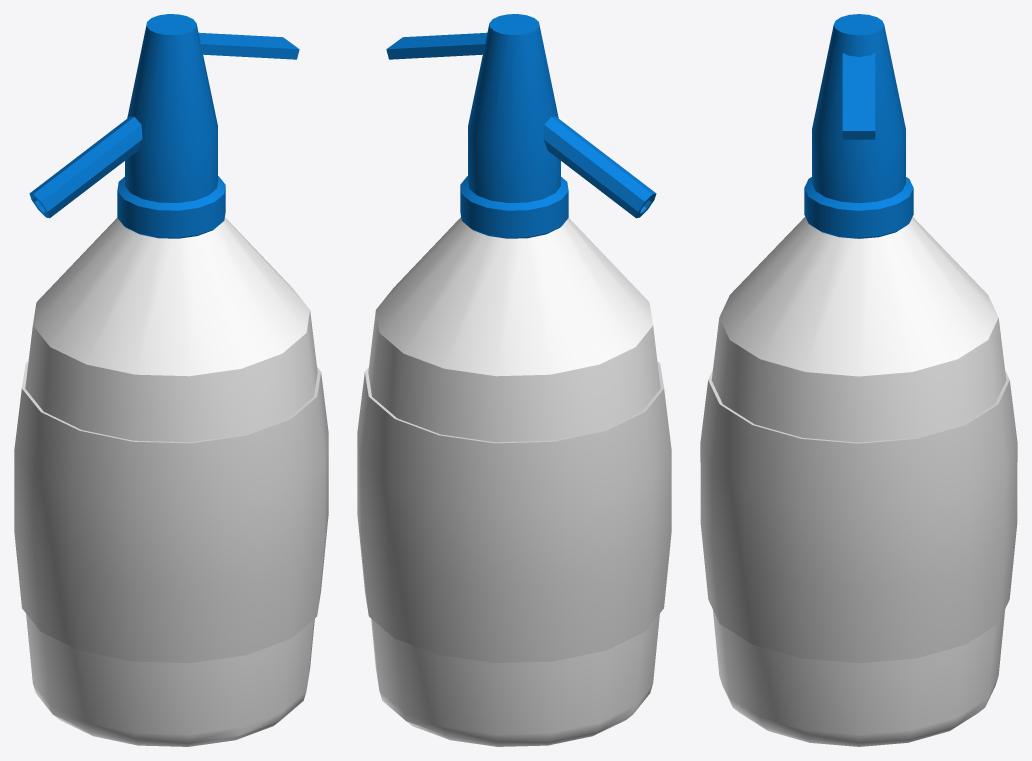
File: gaseosa.fbx
3 renders of one model, left to right at view 1: azimuth 30°, elevation 25°; view 2: azimuth 150°, elevation 25°; view 3: azimuth 270°, elevation 25°, orthographic.
Visible parts, largest first — view 1: bottle, label; view 2: bottle, label; view 3: bottle, label.
Boxes of the visible parts, x1,y1,x2,y2 form: bottle: [25, 14, 317, 746]; label: [14, 361, 328, 662]; bottle: [368, 14, 660, 746]; label: [357, 361, 671, 662]; bottle: [711, 14, 1006, 746]; label: [700, 370, 1017, 663].
Size of the model in its own units: 43.68 by 102 by 43.57.
